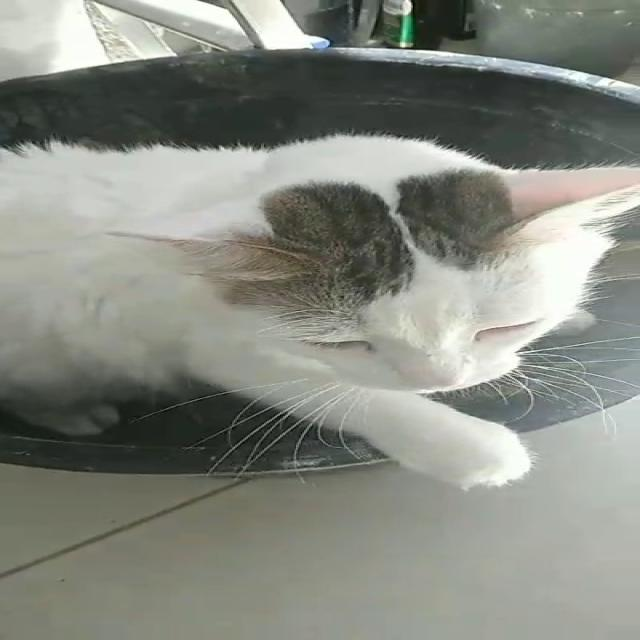Simba: (7, 130, 638, 491)
